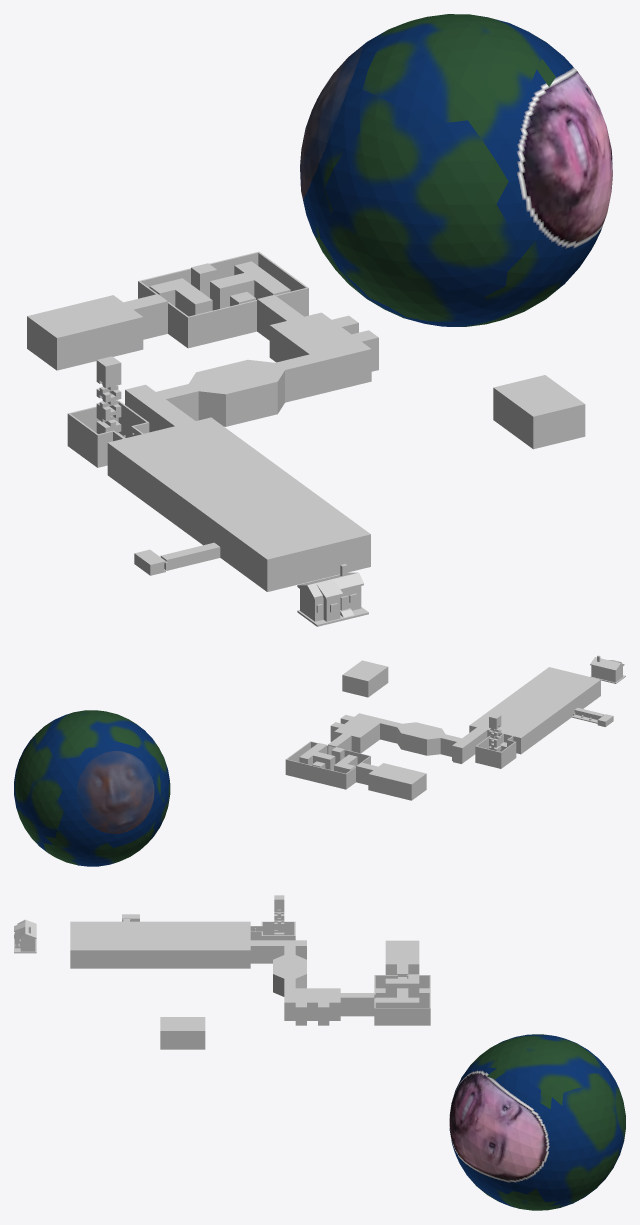
3 views of the same model, one above another, from view 1: azimuth 30°, elevation 25°; view 2: azimuth 150°, elevation 25°; view 3: azimuth 270°, elevation 25° (orthographic). The views are drawn at different scales.
Visible parts, largest first — view 1: Icosphere, Cube.130, Cube.125, Cube.090, Cube.309, Cube.317, Cube.316, Cube.310, Cube.313, Cube.314, Cube.087, Cube.312 (+19 smaller); view 2: Icosphere, Cube.088, Cube.130, Cube.125, Cube.089, Cube.309, Cube.313, Cube.317, Cube.310, Cube.314, Cube.312, Cube.315 (+8 smaller); view 3: Icosphere, Cube.103, Cube.130, Cube.125, Cube.032, Cube.044, Cube.278, Cube.289, Cube.247, Cube.311, Cube.312, Cube.315 (+9 smaller).
Part boxes in pixels (left/top/right/bottom): Icosphere: left=300, top=14, right=612, bottom=326; Cube.130: left=27, top=295, right=143, bottom=339; Cube.125: left=269, top=312, right=371, bottom=363; Cube.090: left=56, top=319, right=141, bottom=368; Cube.309: left=493, top=375, right=585, bottom=418; Cube.317: left=227, top=518, right=319, bottom=561; Cube.316: left=279, top=505, right=370, bottom=548; Cube.310: left=107, top=430, right=198, bottom=472; Cube.313: left=147, top=459, right=238, bottom=502; Cube.314: left=187, top=488, right=278, bottom=531; Cube.087: left=187, top=300, right=256, bottom=346; Cube.312: left=199, top=446, right=290, bottom=488; Icosphere: left=14, top=710, right=170, bottom=866; Cube.088: left=285, top=759, right=346, bottom=788; Cube.130: left=368, top=763, right=426, bottom=785; Cube.125: left=334, top=713, right=384, bottom=738; Cube.089: left=369, top=775, right=412, bottom=799; Cube.309: left=342, top=660, right=388, bottom=681; Cube.313: left=515, top=702, right=560, bottom=723; Cube.317: left=555, top=673, right=600, bottom=694; Cube.310: left=499, top=717, right=540, bottom=738; Cube.314: left=535, top=688, right=580, bottom=709; Cube.312: left=489, top=696, right=534, bottom=716; Cube.315: left=509, top=681, right=554, bottom=702; Icosphere: left=449, top=1034, right=625, bottom=1210; Cube.103: left=374, top=1008, right=429, bottom=1024; Cube.130: left=385, top=940, right=419, bottom=965; Cube.125: left=284, top=988, right=340, bottom=1003; Cube.032: left=205, top=951, right=250, bottom=967; Cube.044: left=160, top=951, right=205, bottom=967; Cube.278: left=115, top=951, right=160, bottom=967; Cube.289: left=70, top=951, right=115, bottom=967; Cube.247: left=160, top=1032, right=205, bottom=1048; Cube.311: left=205, top=936, right=250, bottom=951; Cube.312: left=160, top=936, right=205, bottom=951; Cube.315: left=115, top=936, right=160, bottom=951.
Size of the model in its own units: 468 by 157 by 543.
1 material, 1 textured.
